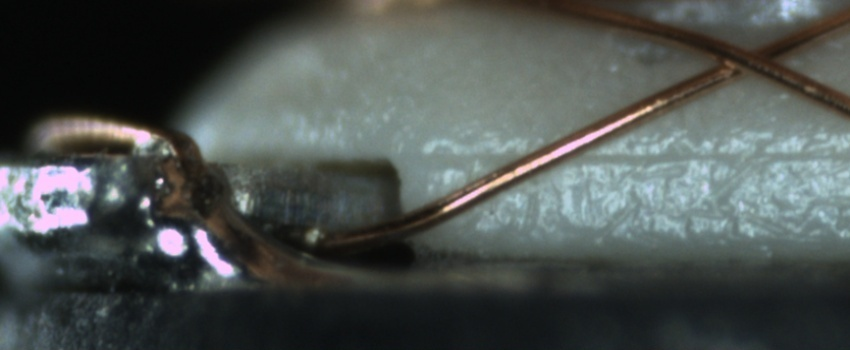CL: (698, 31, 797, 85)
DL: (434, 128, 849, 186)
TE: (22, 111, 209, 159)
